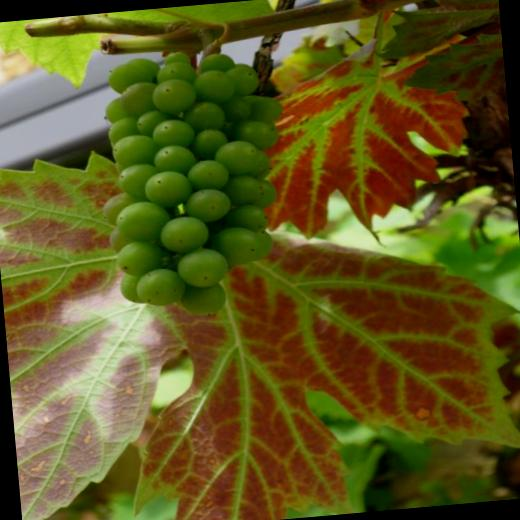Orange: (87, 42, 303, 326)
